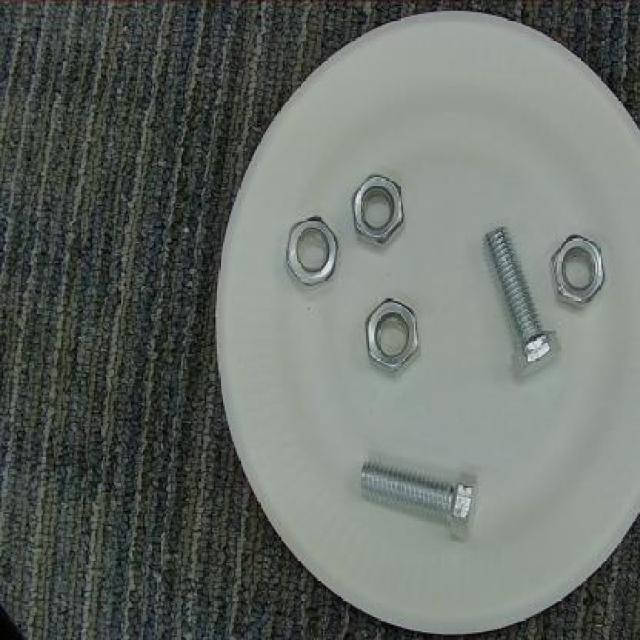Bolt: (482, 220, 562, 385), (354, 458, 481, 544)
Nut: (548, 235, 617, 314), (359, 294, 423, 375), (279, 208, 340, 290), (351, 169, 413, 246)
